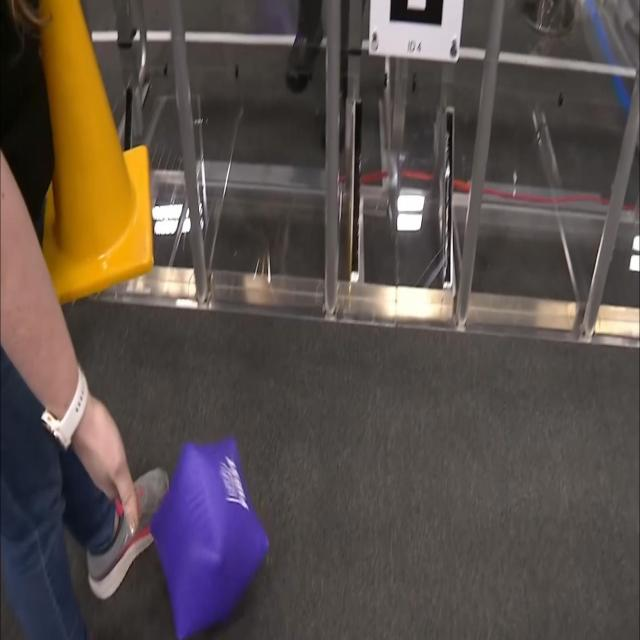frc_cone: (25, 0, 159, 300)
frc_cube: (150, 436, 268, 640)
